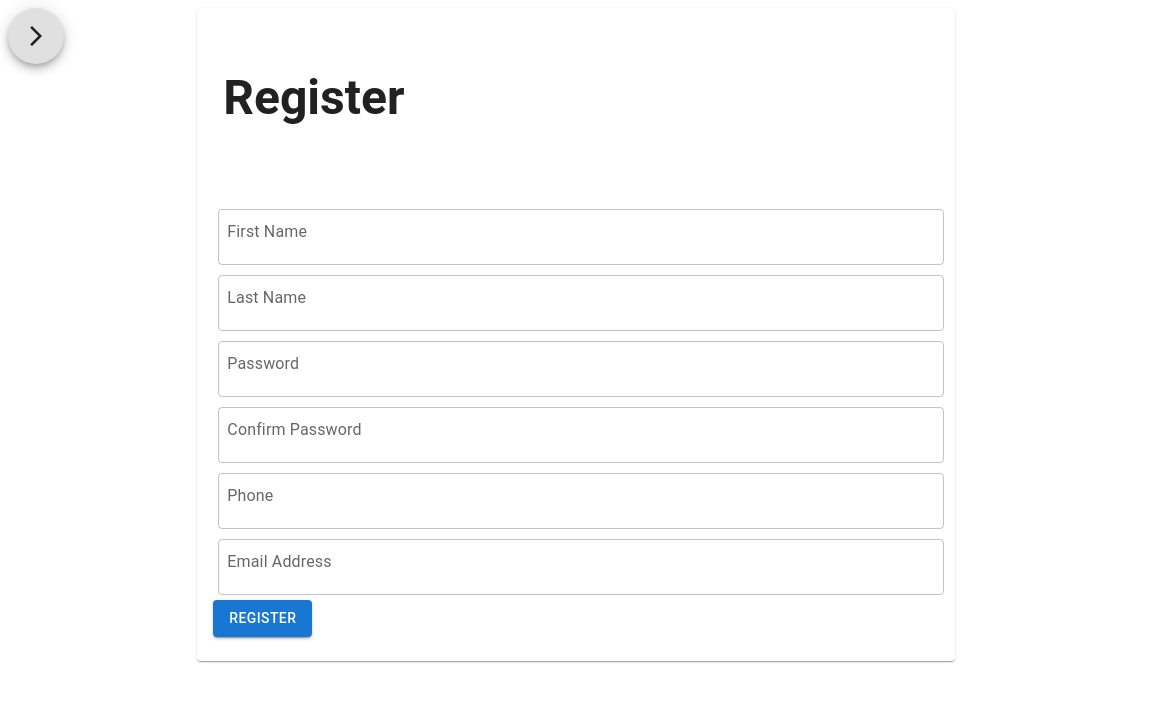
Test: Register Page › should set error if backend error thrown
Type "John" into the field labelled "First Name". click: [581, 237]
box: x1=218 y1=209 x2=943 y2=265
Type "Doe" into the field labelled "Last Name". click: [581, 303]
box: x1=218 y1=275 x2=943 y2=331
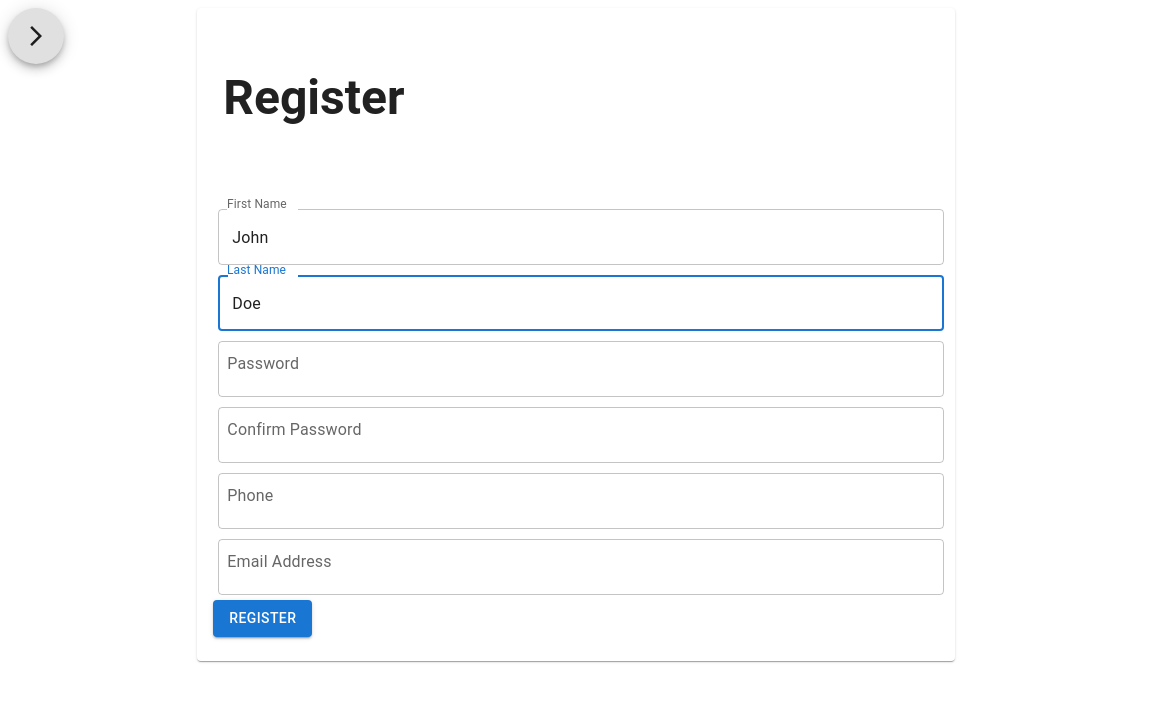
Type "password" into the password field labelled "Password". click: [581, 369]
box: x1=218 y1=341 x2=943 y2=397
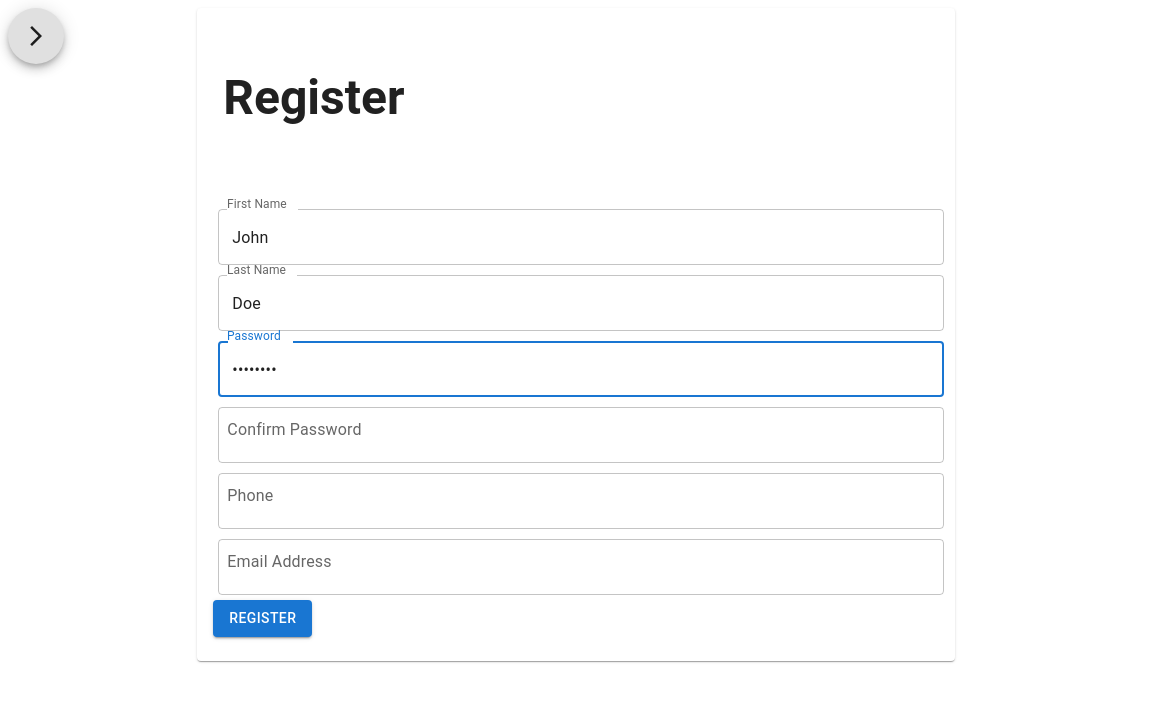
Type "password" into the password field labelled "Confirm Password". click: [581, 435]
box: x1=218 y1=407 x2=943 y2=463
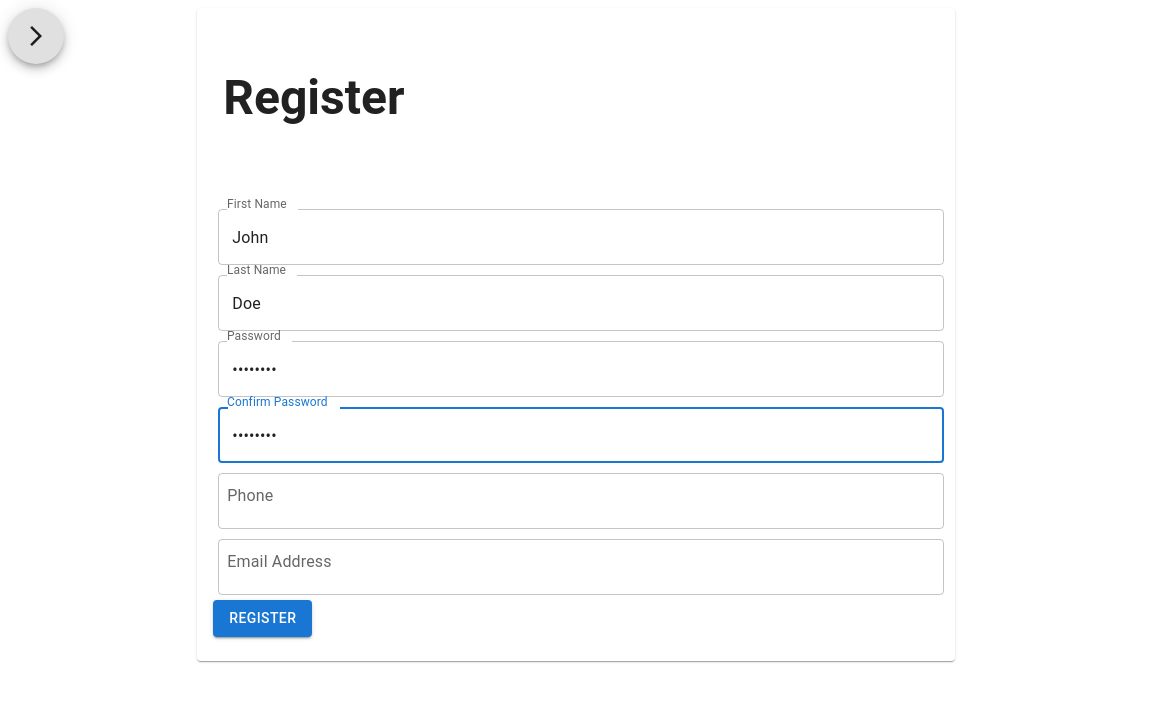
Type "1234567890" into the field labelled "Phone". click: [581, 501]
box: x1=218 y1=473 x2=943 y2=529
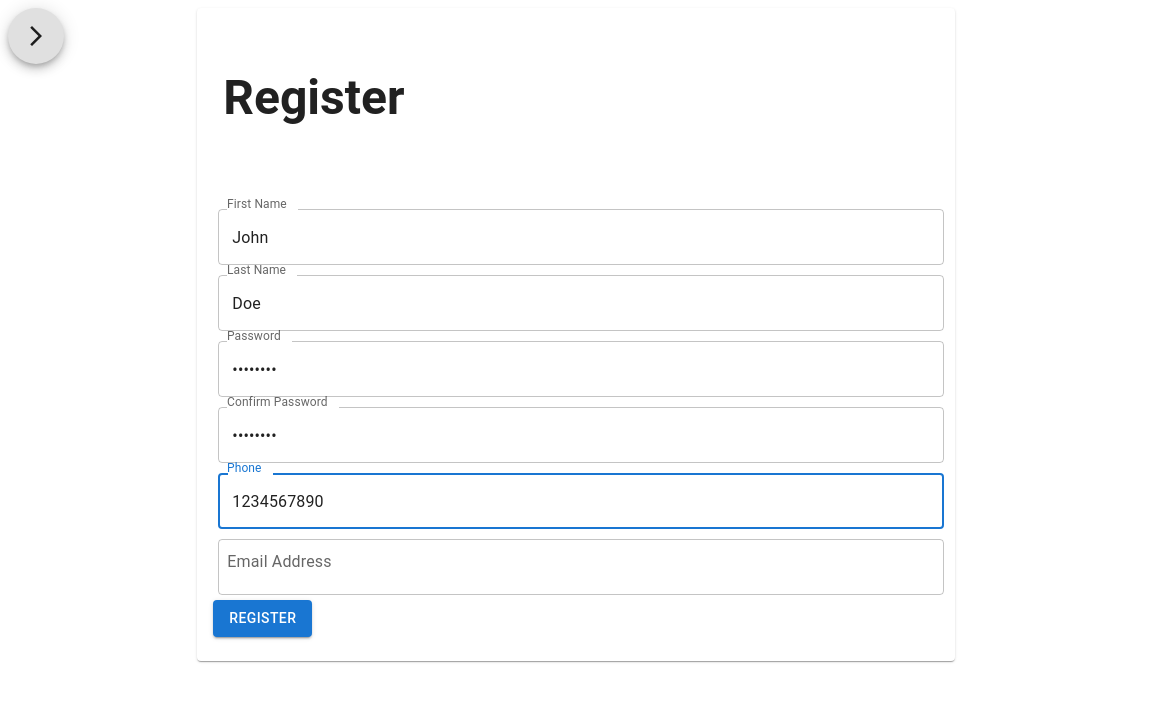
Type "john.doe@gmail" into the field labelled "Email Address". click: [581, 567]
box: x1=218 y1=539 x2=943 y2=595
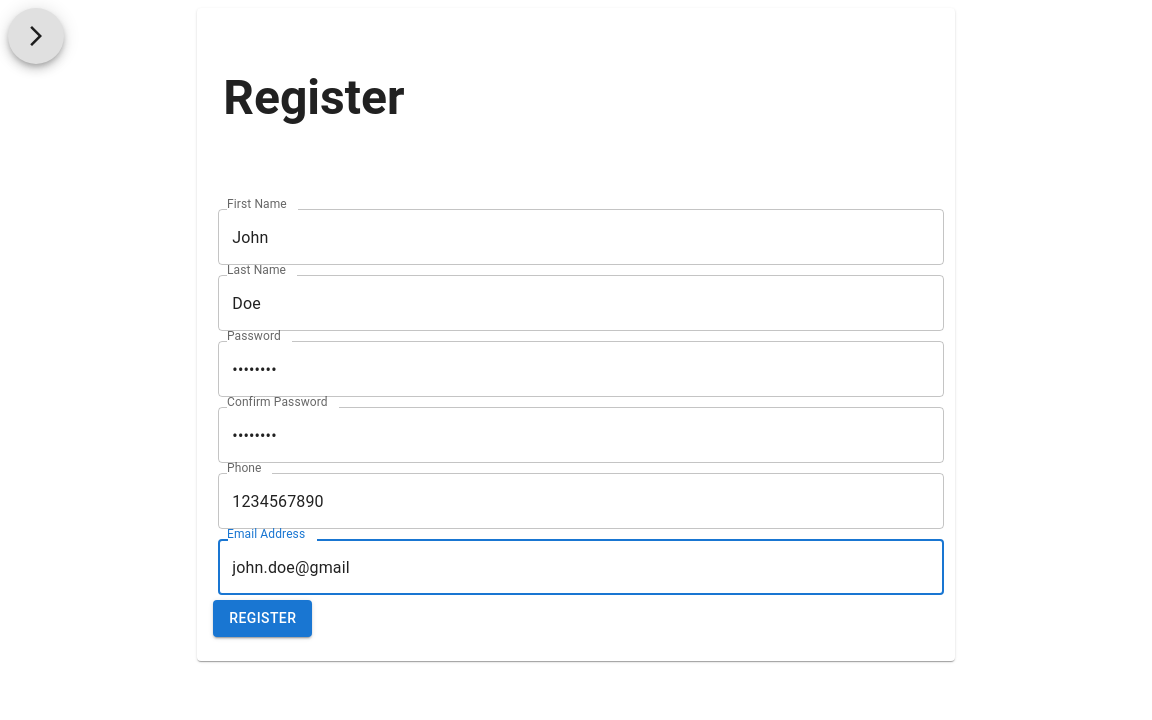
Click the button with id "submit". click: [263, 619]
box: x1=213 y1=600 x2=312 y2=637
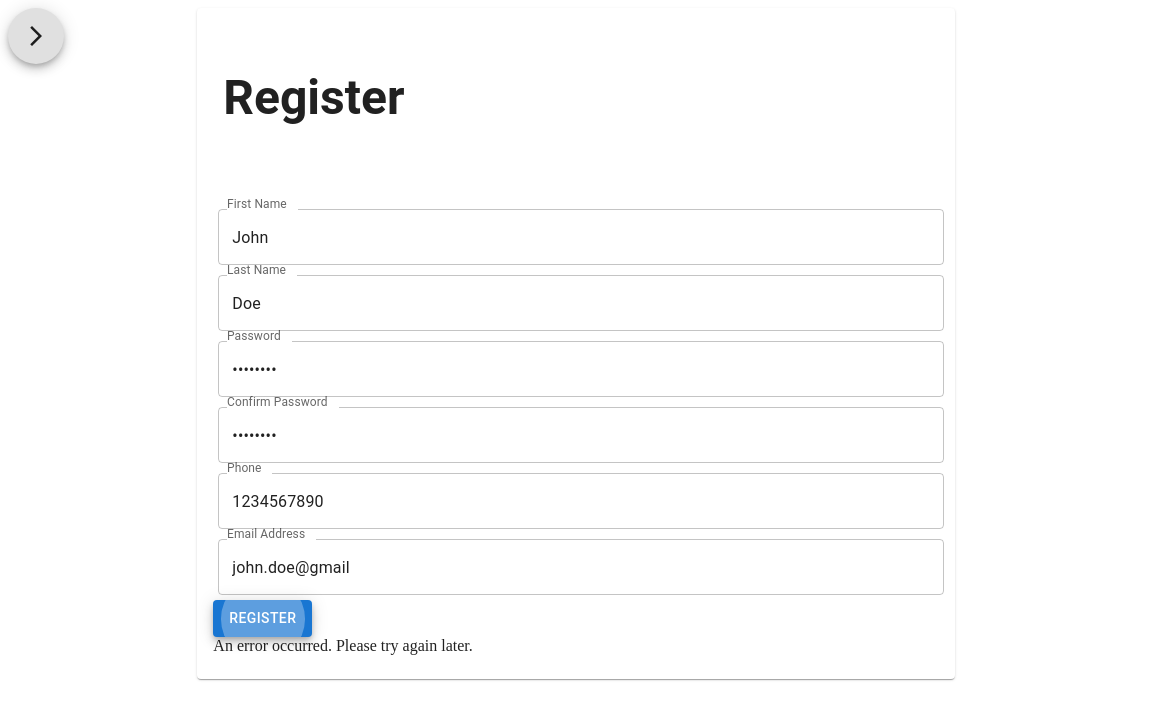
Expected: the text with id "form-error-register-form" reads "An error occurred. Please try again later.", x1=213 y1=637 x2=472 y2=654
